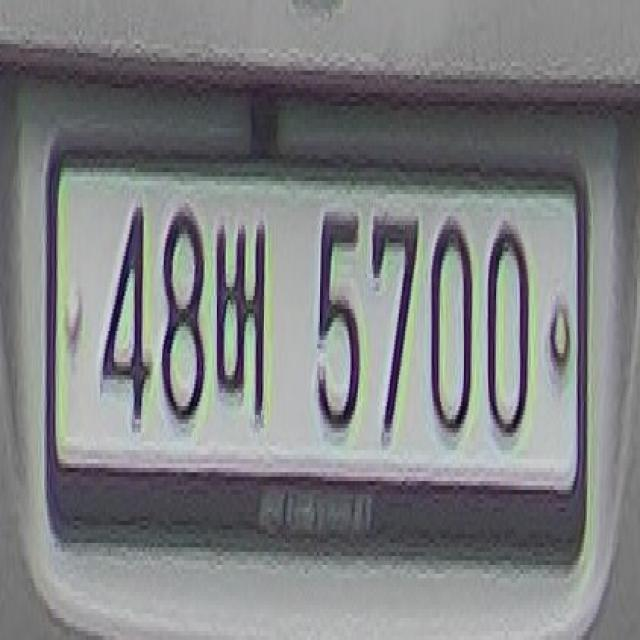0: (481, 208, 534, 462), (426, 211, 476, 456)
4: (94, 190, 154, 442)
5: (312, 193, 362, 457)
7: (368, 202, 420, 450)
8: (157, 195, 210, 438)
beo: (213, 206, 273, 438)
license_plate: (36, 112, 601, 580)
